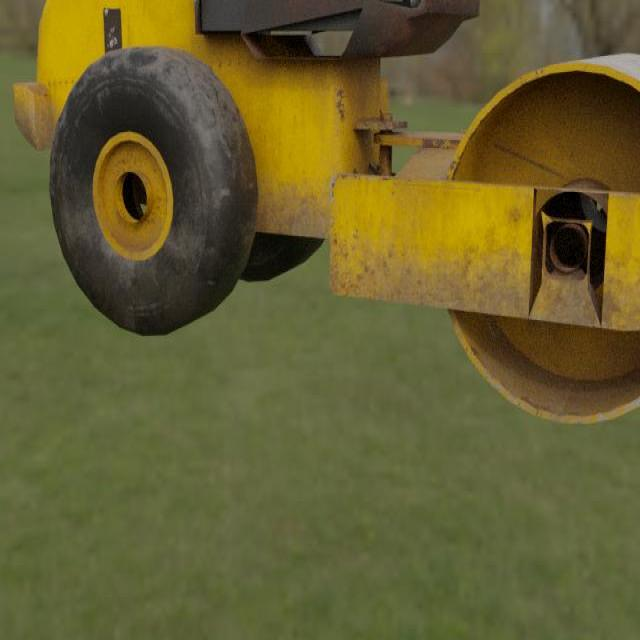Roller: (12, 0, 640, 425)
